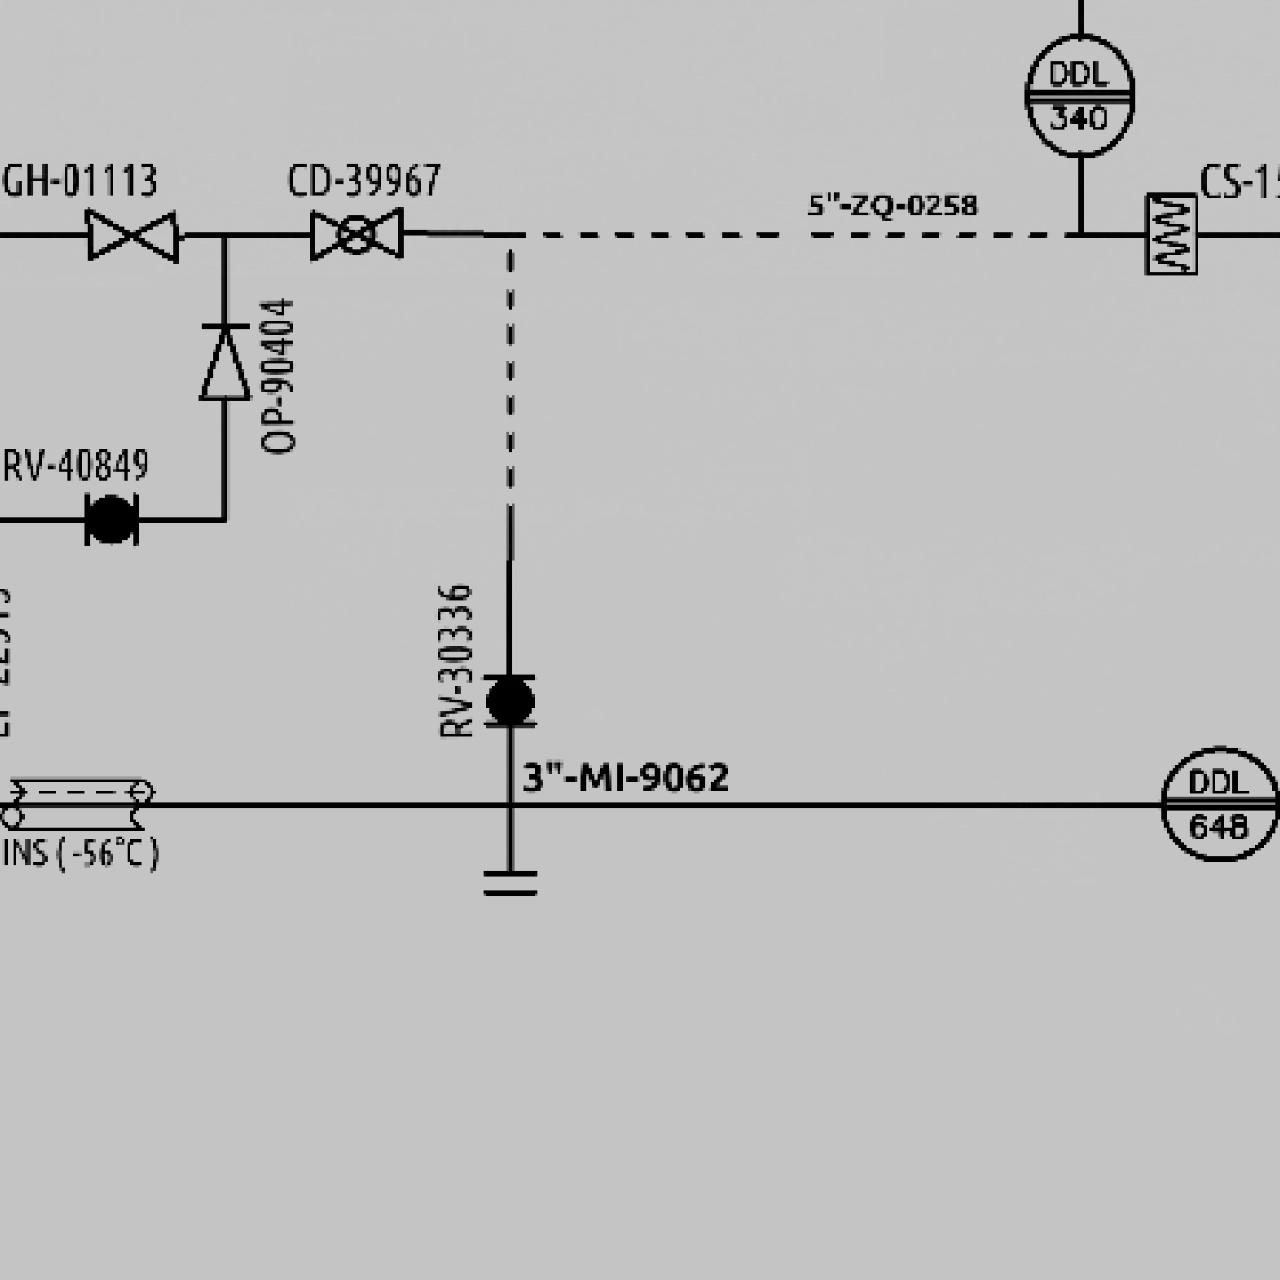Control-Panel: (1013, 28, 1146, 162)
